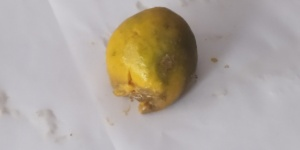BAD: (106, 5, 198, 111)
